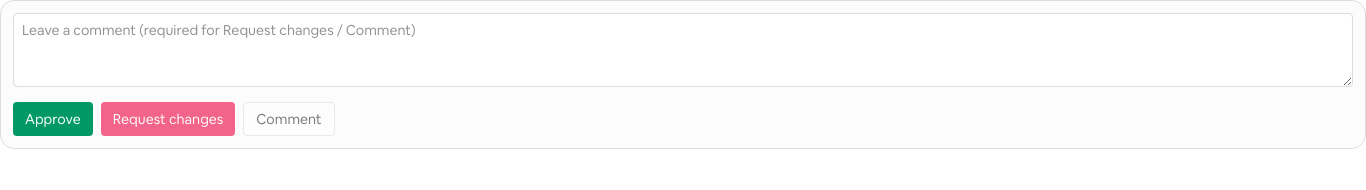
Test case: PrReviewActions › surfaces a Reauthorize hint on needs_reauth
Click the button "Approve" at (53, 119), box [13,102,93,136]
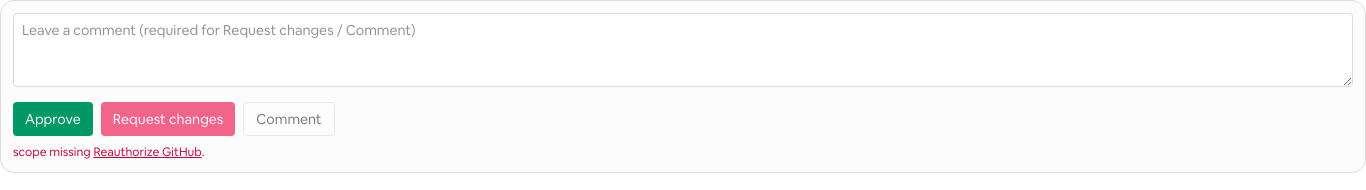
Check: the message shows "scope missing", box [13,144,91,160]
Check: the button "Reauthorize GitHub" is shown, box [93,144,202,160]
